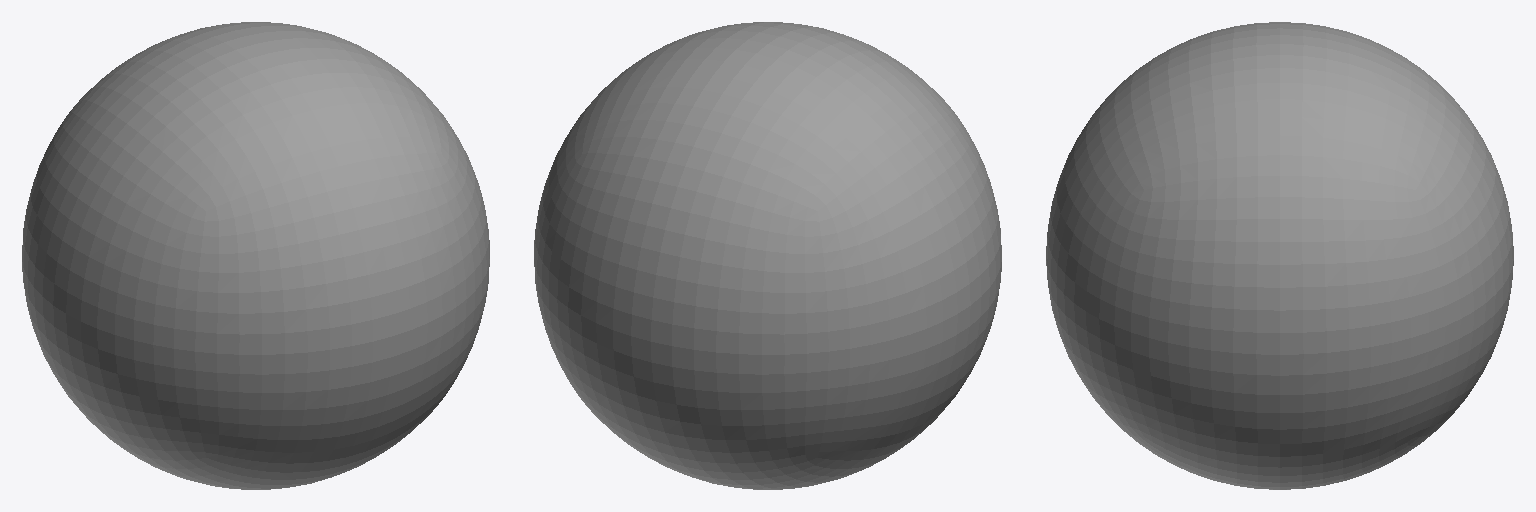
Rendered from BB8_body.obj.
3 views of the same model, side by side, from view 1: azimuth 30°, elevation 25°; view 2: azimuth 150°, elevation 25°; view 3: azimuth 270°, elevation 25° (orthographic).
Visible parts, largest first — view 1: BB8_Mesh.001; view 2: BB8_Mesh.001; view 3: BB8_Mesh.001.
Boxes of the visible parts, x1=… form: BB8_Mesh.001: x1=22, y1=22, x2=489, y2=489; BB8_Mesh.001: x1=534, y1=22, x2=1001, y2=489; BB8_Mesh.001: x1=1046, y1=22, x2=1513, y2=489.
Bounding box in the file's own units: 95.25 × 95.25 × 95.25.